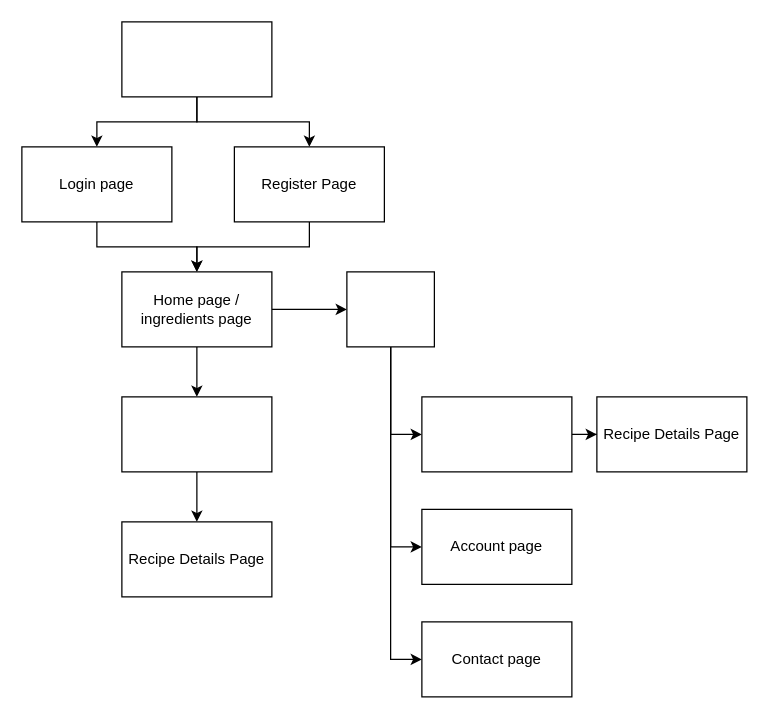
The diagram is 769 pixels wide and 719 high, and some of its shapes have lost their labels. The shapes that lost their labels are listed below. From the top down, each one's centre as x and y in pixels, then its label:
the point at 196,59: Site Entrance Page
the point at 390,309: Hamburger Menu
the point at 196,434: Recipe List page
the point at 496,434: Recipe search page
